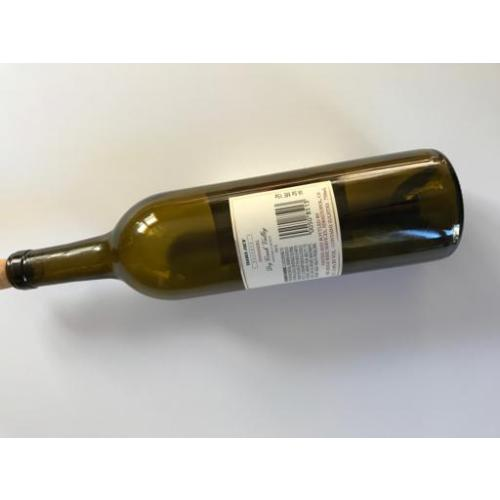glass: (15, 150, 463, 301)
